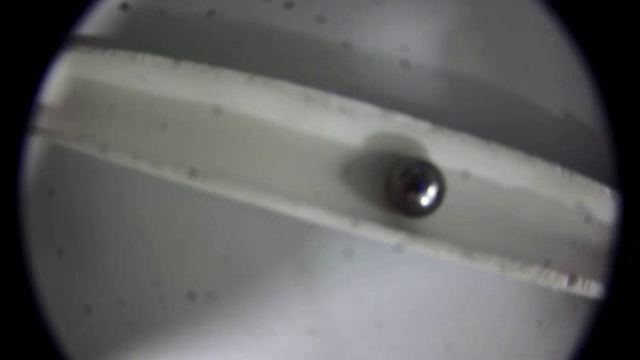gangzhu: (385, 158, 449, 220)
